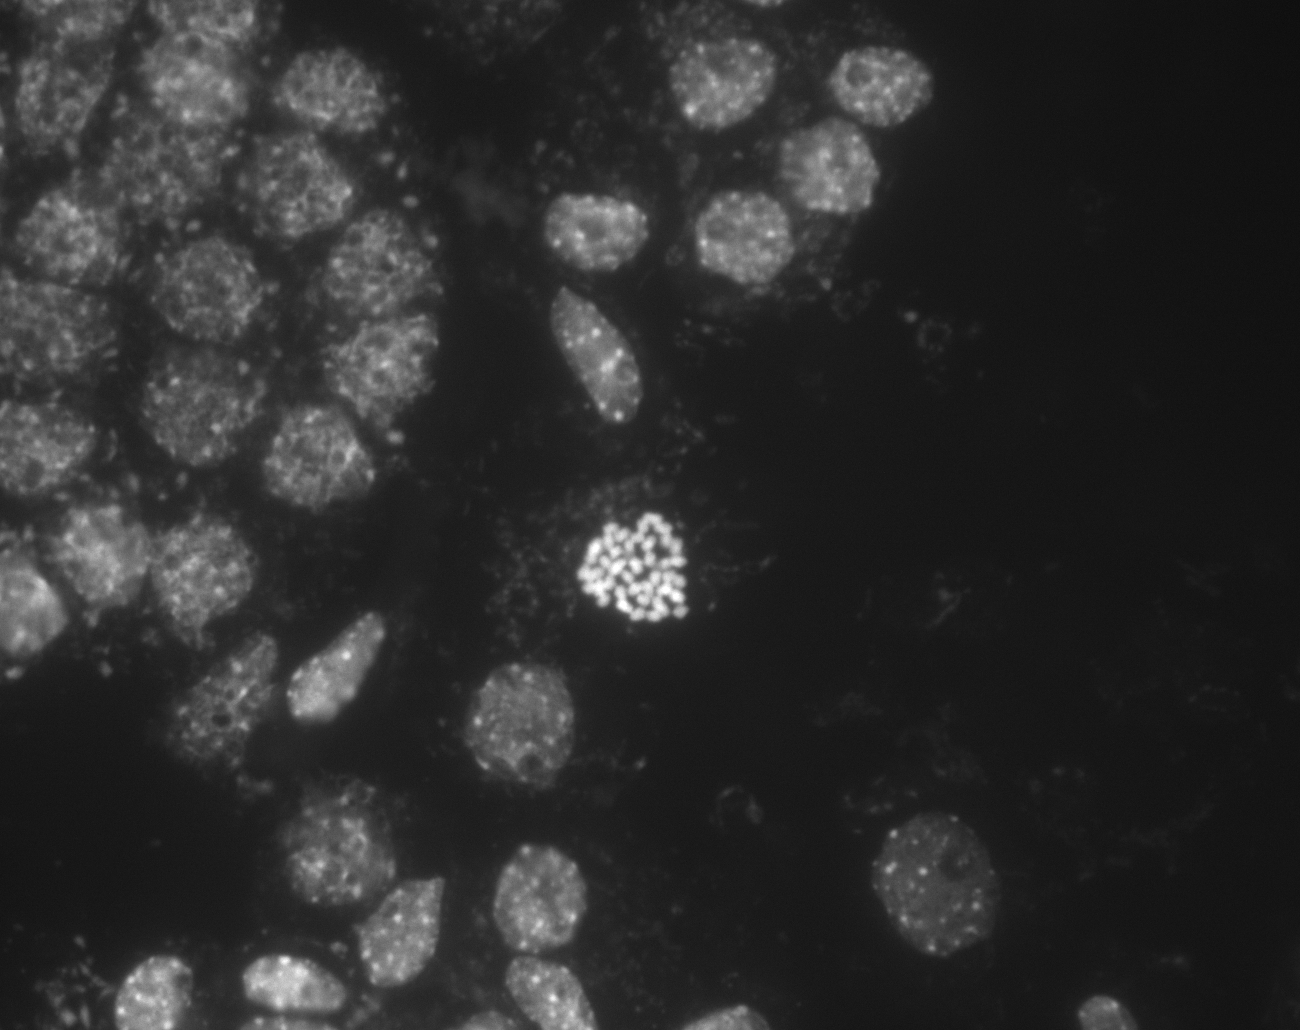Chromosomes: (577, 484, 737, 638)
Others: (833, 788, 1024, 979), (59, 492, 228, 672), (460, 845, 641, 1011), (432, 609, 591, 789), (256, 776, 439, 933), (145, 595, 316, 761), (364, 845, 541, 1003), (688, 145, 872, 295), (278, 836, 465, 979), (649, 23, 836, 163), (537, 909, 750, 1030), (763, 24, 942, 165), (498, 196, 654, 354), (259, 904, 448, 1026), (55, 913, 236, 1030), (536, 165, 709, 285), (157, 926, 338, 1021)
